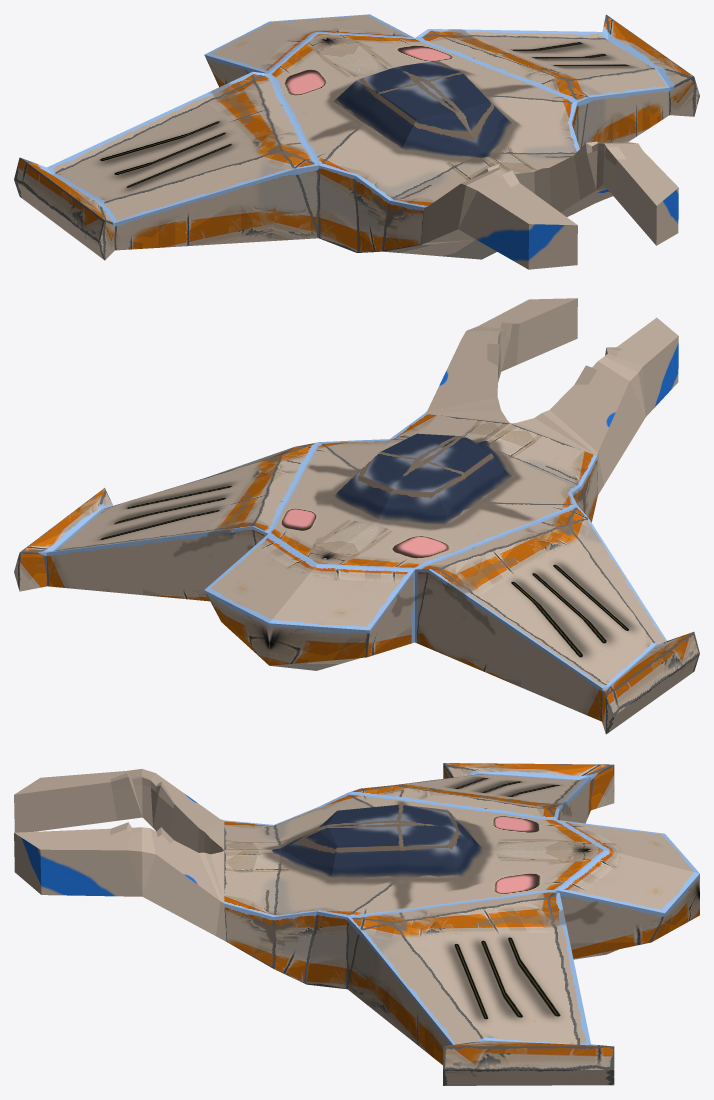
The model's file is shipJop.fbx.
3 views of the same model, one above another, from view 1: azimuth 30°, elevation 25°; view 2: azimuth 150°, elevation 25°; view 3: azimuth 270°, elevation 25° (orthographic).
Visible parts, largest first — view 1: Cube; view 2: Cube; view 3: Cube.
Boxes of the visible parts, x1=… form: Cube: x1=14, y1=14, x2=699, y2=269; Cube: x1=14, y1=298, x2=699, y2=734; Cube: x1=14, y1=763, x2=699, y2=1085.
Size of the model in its own units: 992 by 281 by 995.
